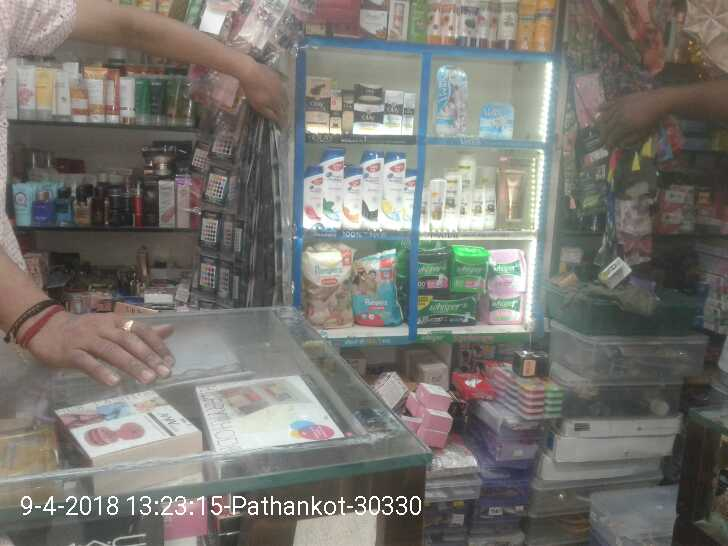venus: (436, 65, 466, 135), (478, 104, 511, 135)
